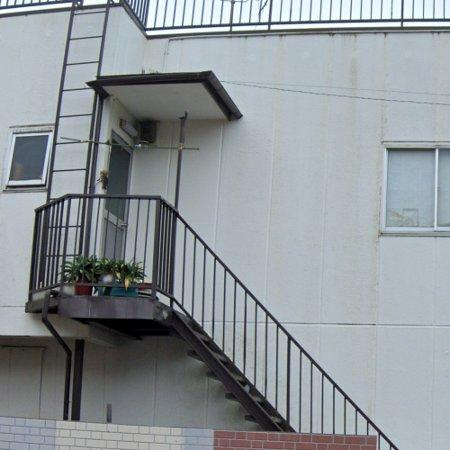stairs: (26, 194, 397, 450)
